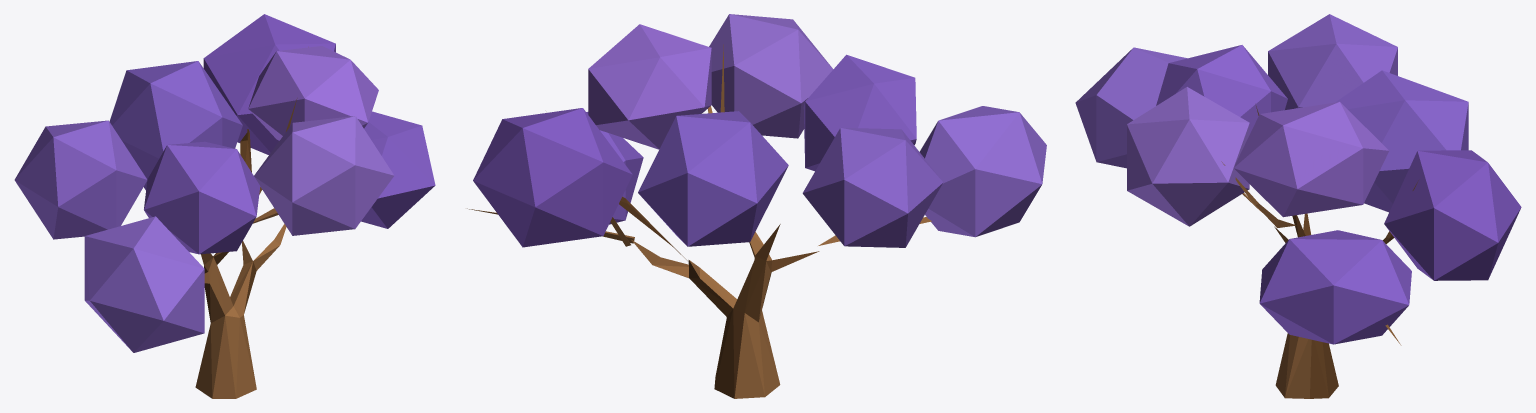
File: jacaranda_var_bloom_far.glb
3 renders of one model, left to right at view 1: azimuth 30°, elevation 25°; view 2: azimuth 150°, elevation 25°; view 3: azimuth 270°, elevation 25°, orthographic. The views are drawn at different scales.
Visible parts, largest first — view 1: jacaranda_var_bloom_far; view 2: jacaranda_var_bloom_far; view 3: jacaranda_var_bloom_far.
Part boxes in pixels (bbox=[...]): jacaranda_var_bloom_far: bbox=[14, 14, 435, 398]; jacaranda_var_bloom_far: bbox=[467, 14, 1046, 398]; jacaranda_var_bloom_far: bbox=[1075, 14, 1521, 398].
Size of the model in its own units: 8.82 by 6.02 by 7.61.
